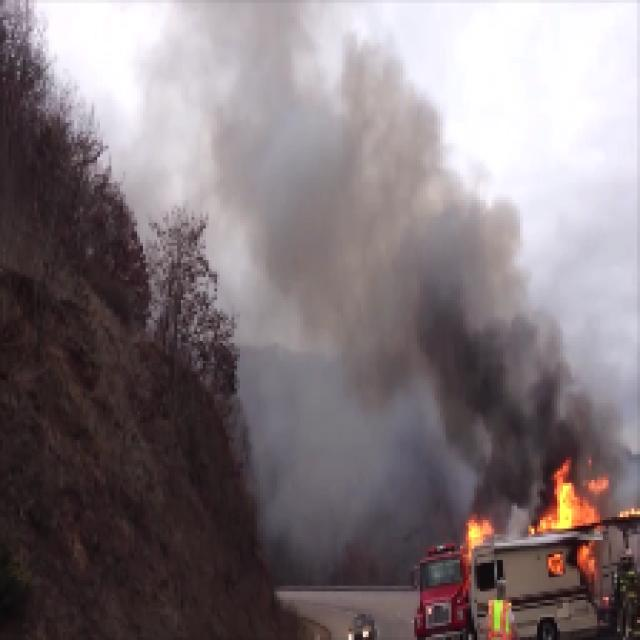smoke: (232, 25, 443, 381)
